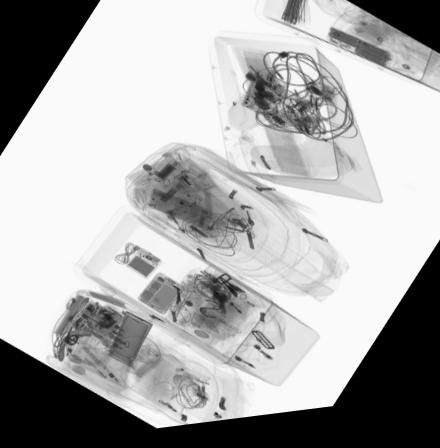Lighter: (186, 197, 205, 225)
